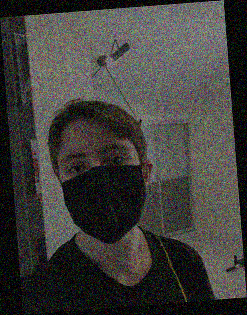with_mask: (59, 132, 150, 245)
